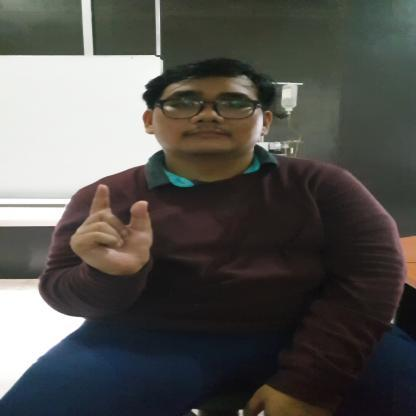U: (68, 182, 156, 274)
